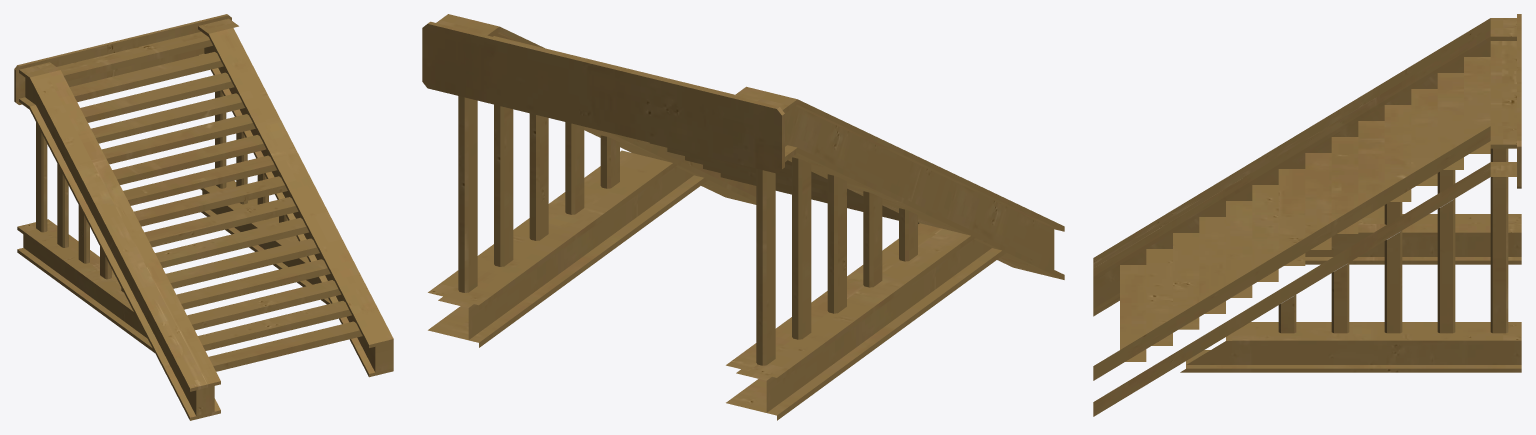
The picture shows the model from 3 angles, left to right: view 1: azimuth 30°, elevation 25°; view 2: azimuth 150°, elevation 25°; view 3: azimuth 270°, elevation 25°; orthographic projection. The views are drawn at different scales.
Visible parts, largest first — view 1: body0_model0_lod0_mesh0; view 2: body0_model0_lod0_mesh0; view 3: body0_model0_lod0_mesh0.
Part boxes in pixels (x1=…): body0_model0_lod0_mesh0: x1=14, y1=14, x2=393, y2=420; body0_model0_lod0_mesh0: x1=422, y1=14, x2=1064, y2=420; body0_model0_lod0_mesh0: x1=1093, y1=14, x2=1521, y2=416.
Size of the model in its own units: 140 by 142 by 194.
Materials: 3 (2 with a texture image).
